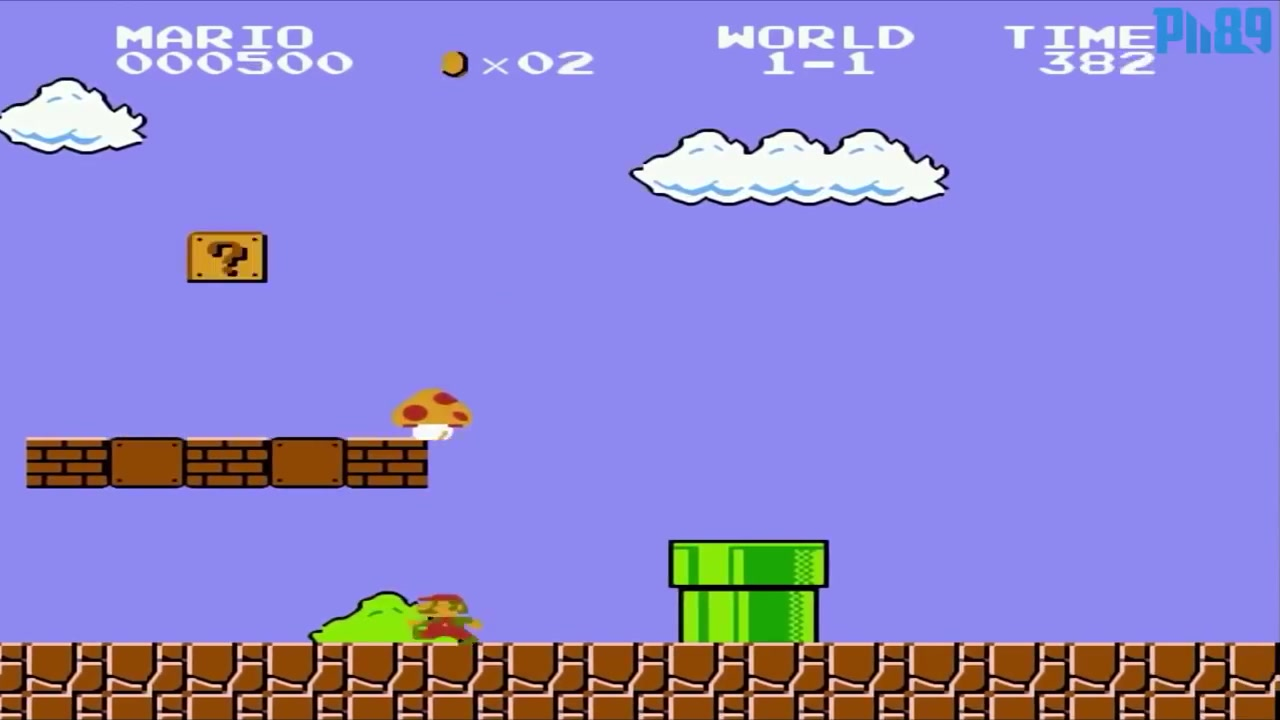mario: (403, 587, 491, 648)
